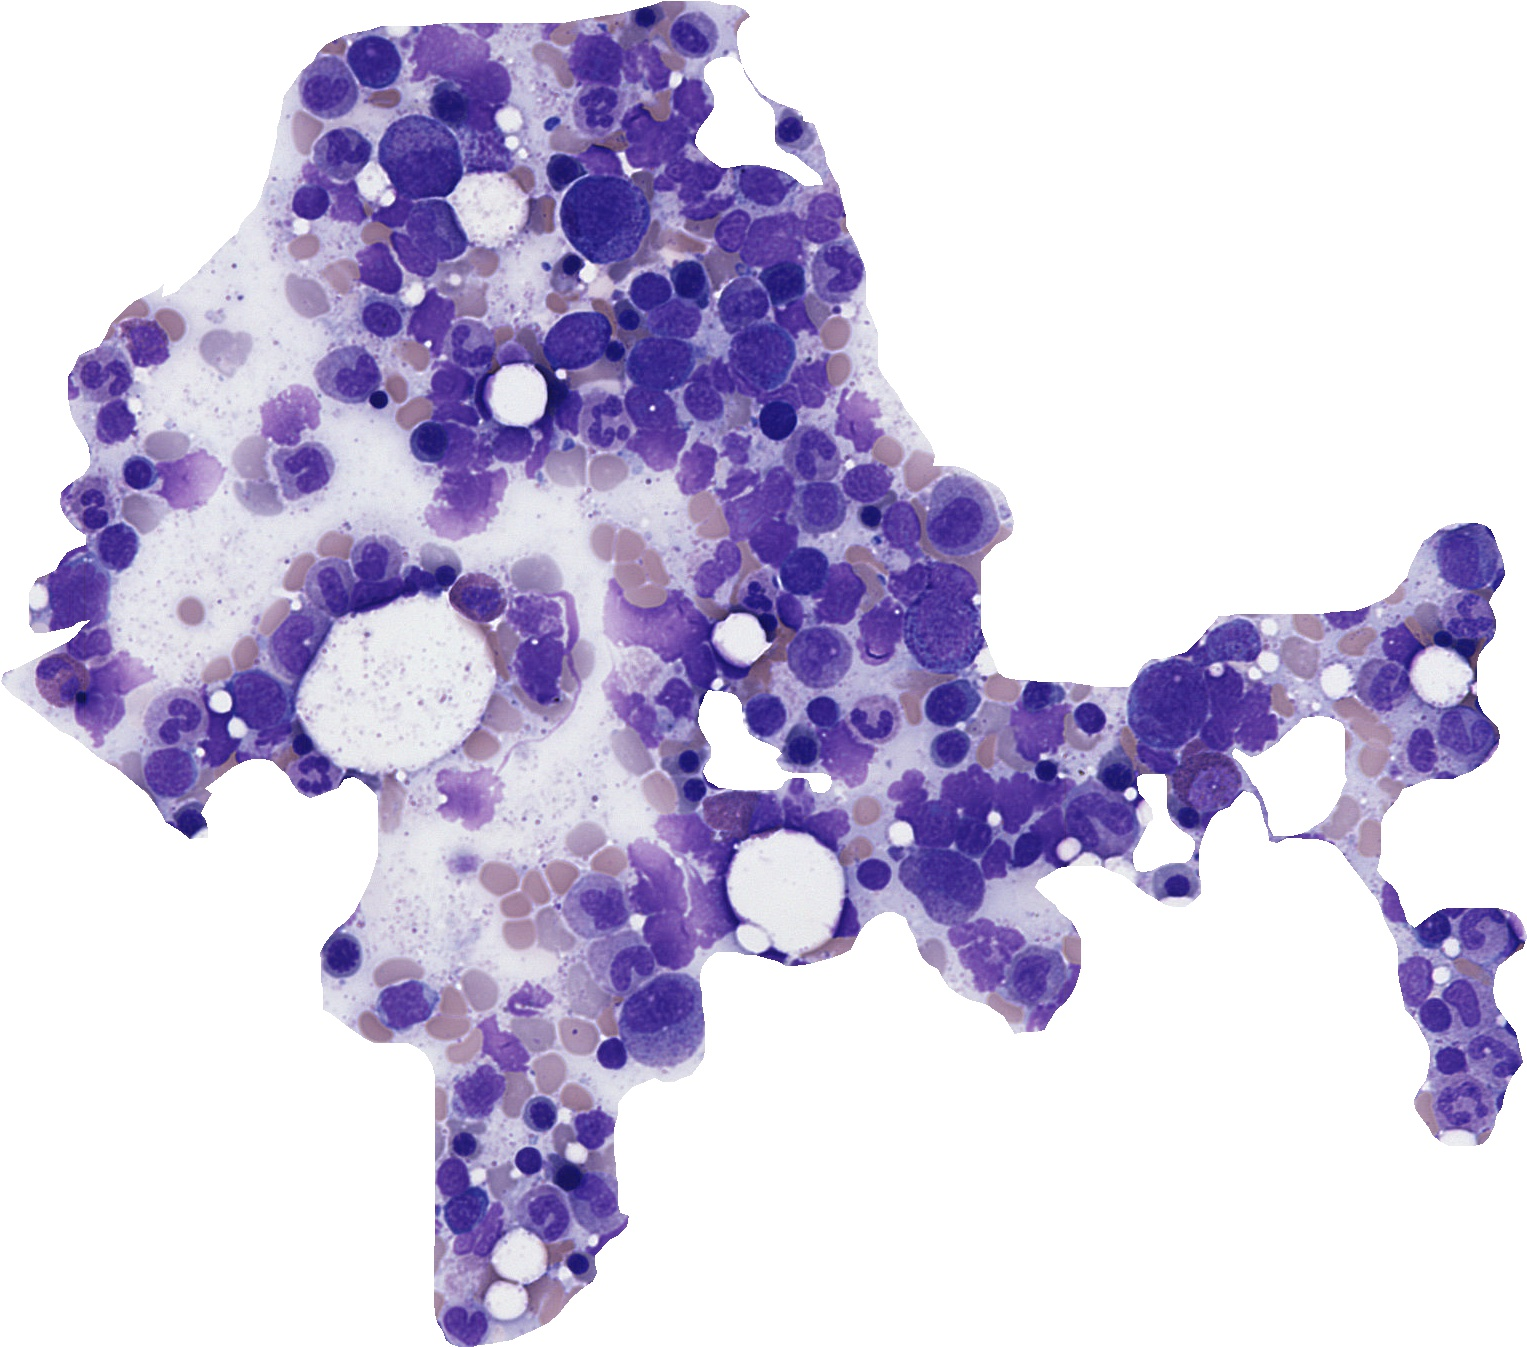objectness: (156, 697, 207, 748), (1444, 593, 1495, 644), (793, 480, 843, 530), (936, 493, 986, 543), (665, 10, 716, 61), (1071, 788, 1122, 839), (318, 125, 369, 176), (827, 241, 877, 291), (407, 207, 457, 257), (719, 277, 769, 328), (741, 328, 791, 378), (554, 315, 604, 365), (619, 34, 669, 85), (1394, 727, 1445, 778), (425, 81, 476, 131), (75, 675, 126, 726), (1200, 666, 1250, 716), (238, 716, 289, 767), (633, 853, 684, 904), (746, 515, 797, 566), (483, 419, 534, 469), (441, 768, 491, 819), (882, 766, 933, 817), (355, 246, 405, 296), (355, 293, 405, 343), (88, 398, 139, 449), (941, 765, 992, 815), (908, 801, 959, 852), (733, 482, 784, 533), (802, 801, 853, 852), (689, 547, 739, 598), (571, 34, 621, 85), (711, 423, 762, 473), (676, 380, 726, 430), (836, 393, 886, 443), (947, 813, 998, 863), (94, 521, 144, 572), (665, 762, 716, 813), (667, 254, 717, 304), (1162, 792, 1213, 843), (418, 549, 469, 599), (1092, 744, 1142, 794), (927, 677, 977, 728), (1153, 857, 1203, 908), (917, 605, 968, 655), (849, 696, 899, 745), (79, 348, 129, 399), (292, 752, 342, 802), (734, 569, 784, 620), (578, 81, 628, 131), (1359, 664, 1410, 714), (68, 481, 118, 530), (36, 651, 87, 701), (455, 572, 506, 621), (1187, 755, 1236, 806), (117, 319, 168, 368), (291, 439, 340, 490), (1436, 714, 1485, 765), (299, 62, 350, 112), (784, 425, 834, 475), (269, 618, 318, 668), (635, 337, 685, 387), (234, 677, 285, 727), (1148, 676, 1198, 726), (351, 33, 402, 82), (734, 159, 784, 209), (778, 546, 829, 595), (708, 207, 758, 257), (840, 456, 890, 506), (661, 805, 711, 856), (409, 294, 459, 345), (571, 138, 620, 189), (648, 675, 698, 726), (1007, 696, 1057, 746), (999, 826, 1050, 875), (1197, 707, 1248, 757), (626, 114, 677, 164), (606, 687, 656, 736), (817, 729, 868, 779), (995, 772, 1046, 822), (932, 555, 982, 605), (1023, 800, 1073, 849), (785, 371, 836, 420), (1066, 693, 1116, 742), (1229, 683, 1279, 733), (435, 839, 486, 888), (681, 869, 730, 919), (711, 459, 762, 508), (622, 599, 672, 650), (1229, 710, 1279, 761), (166, 458, 216, 508), (668, 439, 717, 490), (424, 22, 474, 72), (749, 218, 799, 268), (96, 645, 146, 696), (545, 384, 594, 434), (321, 176, 370, 226), (674, 637, 725, 687), (624, 265, 674, 315), (880, 556, 930, 606), (194, 702, 244, 752), (669, 82, 719, 133), (851, 612, 901, 663), (350, 571, 399, 621), (684, 186, 733, 237), (755, 463, 804, 514), (468, 57, 519, 107), (516, 641, 567, 690), (628, 423, 678, 472), (665, 150, 715, 200), (286, 174, 337, 224), (797, 687, 847, 736), (742, 687, 791, 737), (143, 748, 194, 797), (776, 726, 827, 775), (405, 416, 456, 465), (664, 735, 713, 785), (768, 107, 817, 157), (546, 241, 597, 290), (535, 144, 586, 194), (591, 328, 641, 378), (759, 257, 810, 307), (927, 723, 976, 774), (400, 146, 450, 196), (578, 190, 628, 241), (577, 397, 626, 446), (441, 325, 490, 374), (1446, 534, 1496, 584), (311, 559, 360, 608), (716, 789, 765, 839), (571, 880, 620, 930), (797, 631, 846, 680), (350, 533, 399, 582), (330, 351, 379, 400), (694, 351, 743, 400), (879, 498, 928, 547), (973, 832, 1023, 882), (847, 849, 897, 898), (265, 387, 314, 437), (443, 473, 493, 523), (508, 586, 558, 636), (794, 347, 843, 397), (434, 387, 483, 437), (426, 358, 476, 407), (1203, 616, 1253, 666), (625, 378, 674, 428), (365, 187, 415, 237), (1131, 735, 1180, 784), (61, 621, 110, 671), (797, 191, 846, 241), (1011, 667, 1060, 716), (652, 295, 702, 345), (814, 569, 863, 619), (386, 230, 435, 280), (387, 559, 437, 608), (1378, 620, 1427, 670), (457, 122, 507, 172), (764, 586, 814, 636), (768, 290, 817, 339), (771, 778, 820, 827), (114, 447, 164, 497), (846, 490, 895, 540), (604, 293, 654, 342), (921, 854, 971, 904), (620, 0, 671, 43)
